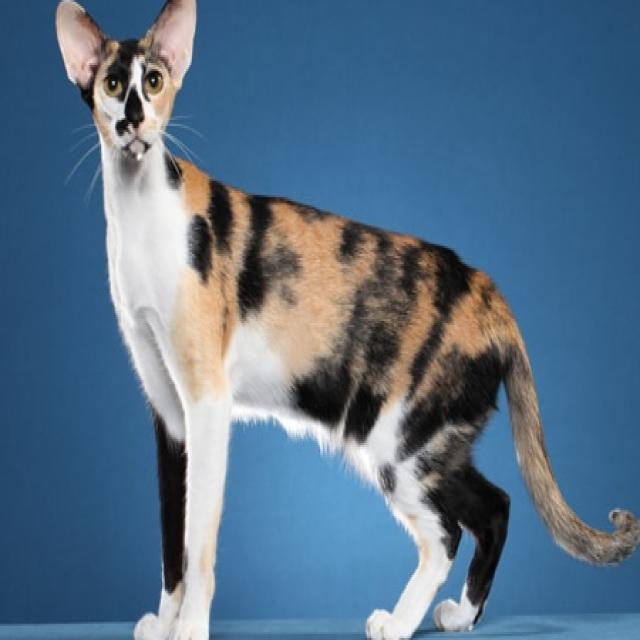Oriental: (52, 0, 640, 640)
